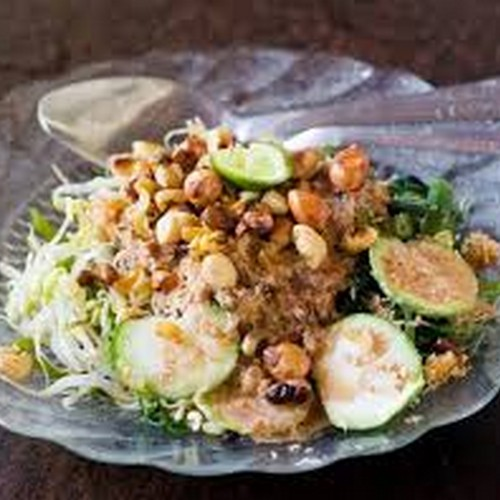serombotan: (52, 157, 473, 418)
